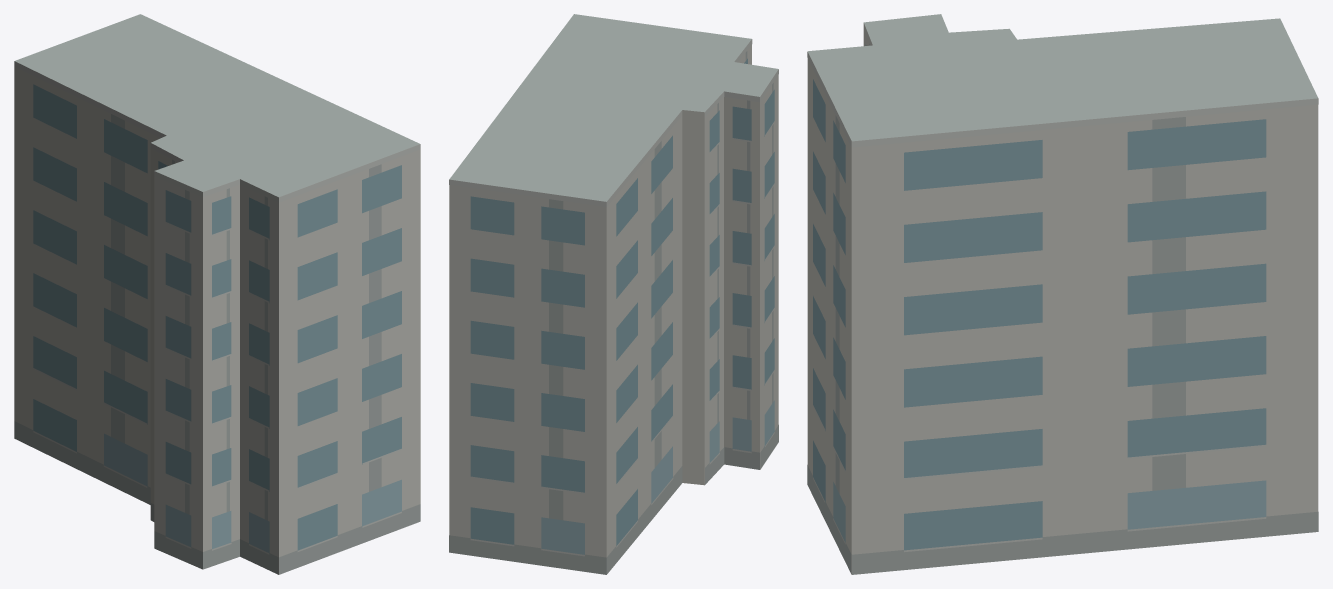
The model's file is survey-upis-32814800.glb.
3 renders of one model, left to right at view 1: azimuth 30°, elevation 25°; view 2: azimuth 150°, elevation 25°; view 3: azimuth 270°, elevation 25°, orthographic. The views are drawn at different scales.
Parts seen in each view (by area): view 1: survey-upis-32814800.tmp; view 2: survey-upis-32814800.tmp; view 3: survey-upis-32814800.tmp.
Boxes of the visible parts, left/top/right/bottom form: survey-upis-32814800.tmp: left=14, top=14, right=420, bottom=574; survey-upis-32814800.tmp: left=449, top=14, right=778, bottom=574; survey-upis-32814800.tmp: left=807, top=14, right=1318, bottom=574.
Size of the model in its own units: 10.6 by 16.8 by 17.96.
